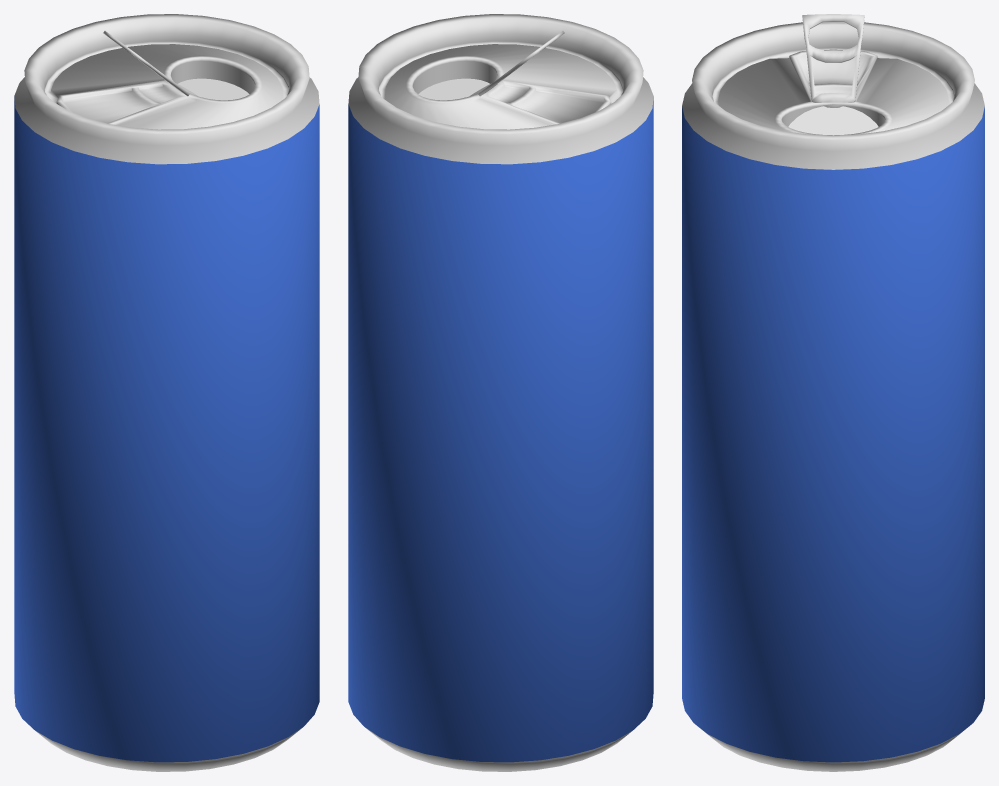
File: kanJuice.fbx
The picture shows the model from 3 angles, left to right: view 1: azimuth 30°, elevation 25°; view 2: azimuth 150°, elevation 25°; view 3: azimuth 270°, elevation 25°; orthographic projection.
Parts seen in each view (by area): view 1: 缶本体, 円柱; view 2: 缶本体, 円柱; view 3: 缶本体, 缶切り, 缶蓋.
Part boxes in pixels (x1=…): 缶本体: x1=14, y1=14, x2=319, y2=771; 円柱: x1=178, y1=78, x2=249, y2=100; 缶本体: x1=348, y1=14, x2=653, y2=771; 円柱: x1=418, y1=78, x2=489, y2=100; 缶本体: x1=682, y1=22, x2=984, y2=771; 缶切り: x1=802, y1=14, x2=864, y2=107; 缶蓋: x1=788, y1=106, x2=878, y2=135.
Size of the model in its own units: 200 by 495 by 200.
